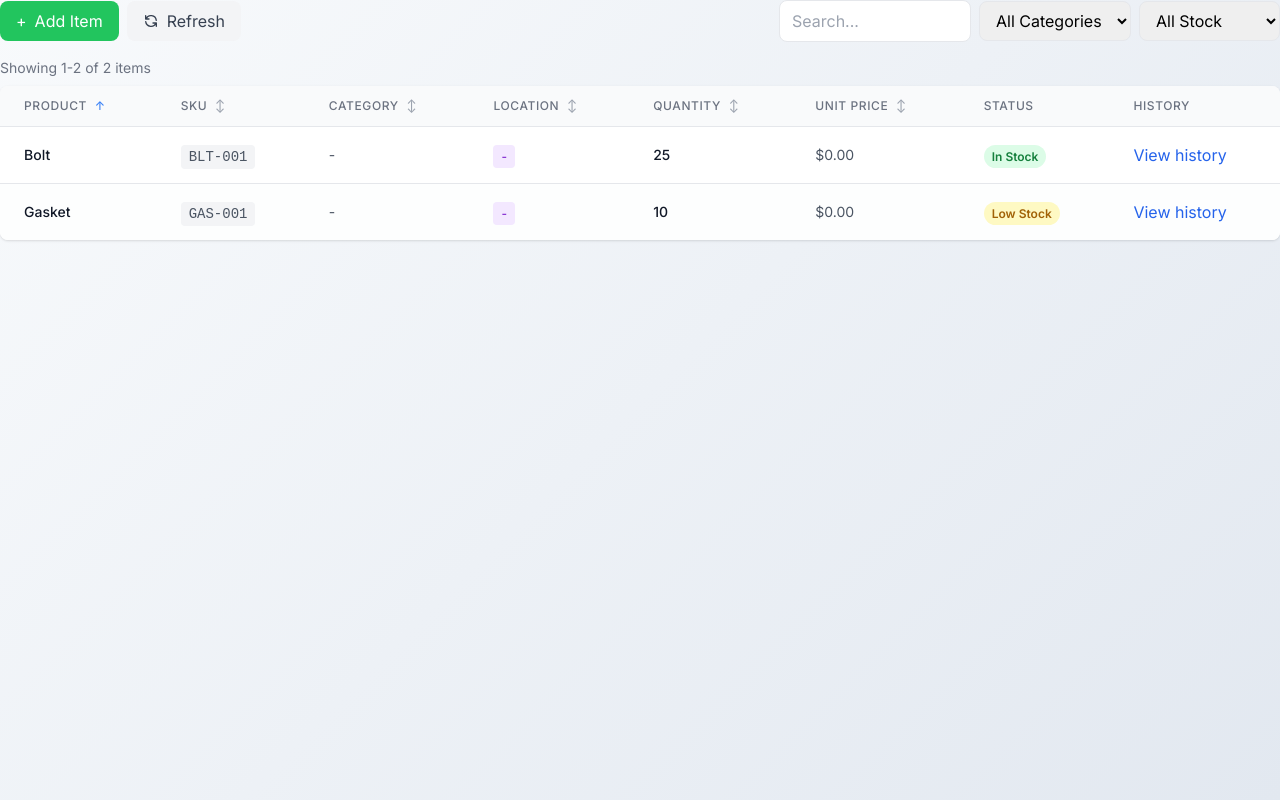
Test: reports request failures and retries
Click the button with aria-label "View history for Bolt": (1180, 155) top-left (1133, 143), bottom-right (1227, 167)
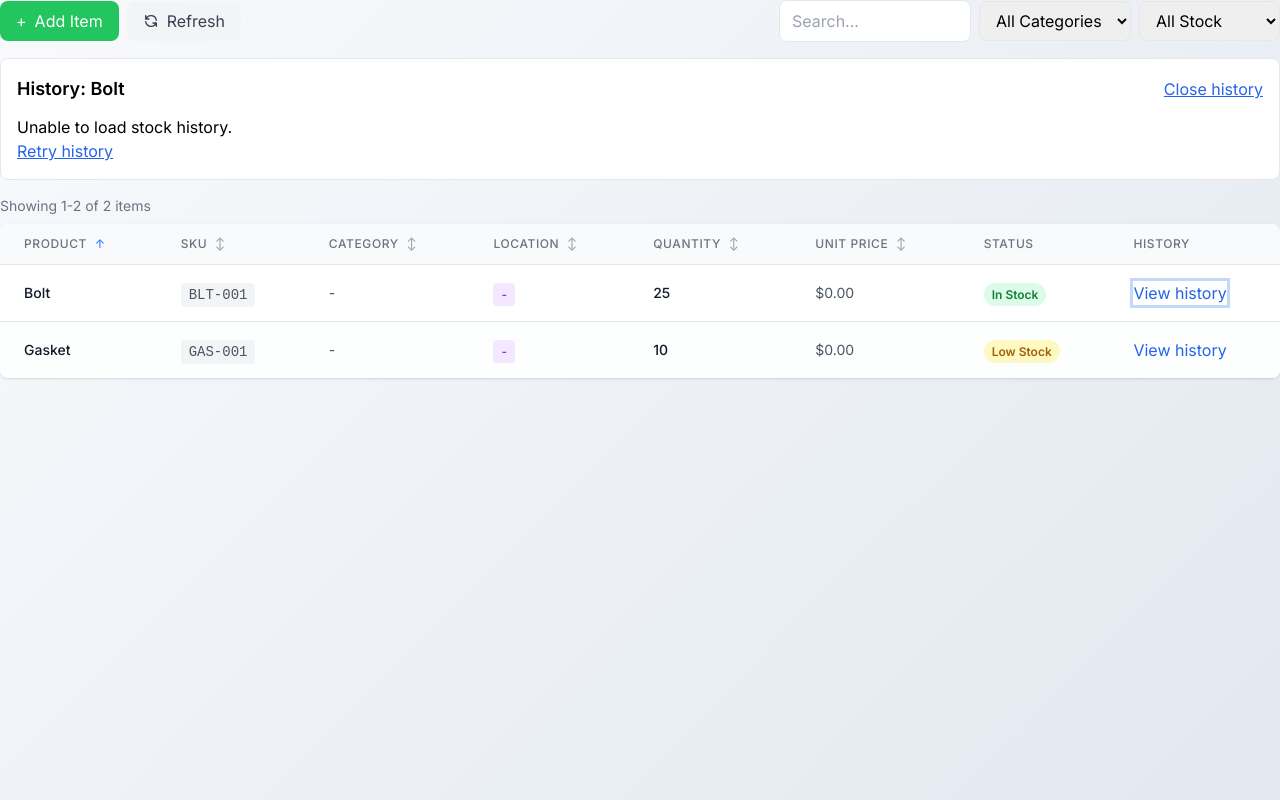
Expected: the message shows "Unable to load stock history.", top-left (17, 117), bottom-right (232, 137)
Click the button "Retry history": (65, 151) top-left (17, 139), bottom-right (113, 163)
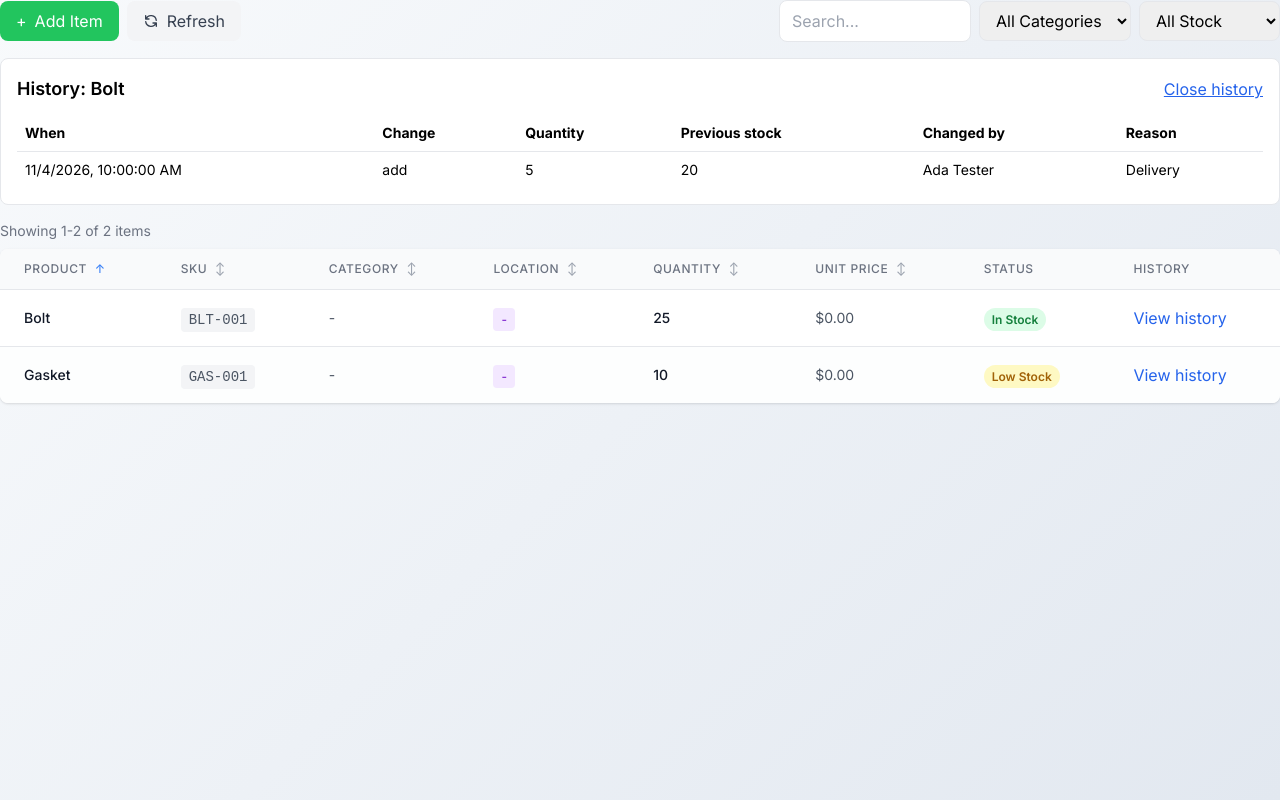
Expected: the text "Ada Tester" is shown, top-left (915, 152), bottom-right (1118, 188)
